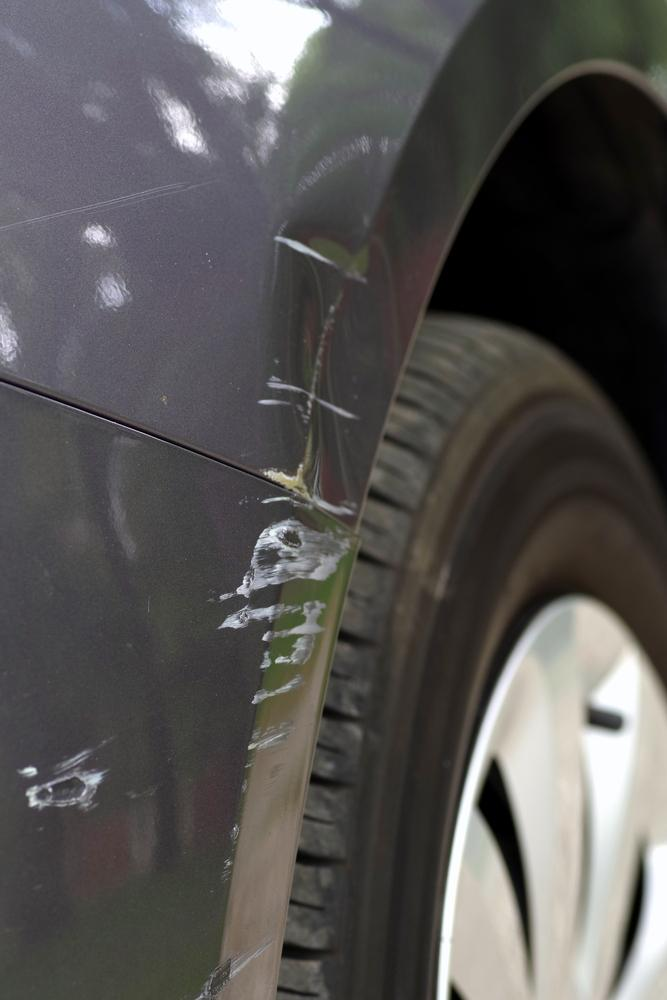dent: (272, 217, 407, 521)
scratch: (212, 497, 356, 870), (11, 748, 114, 816)
